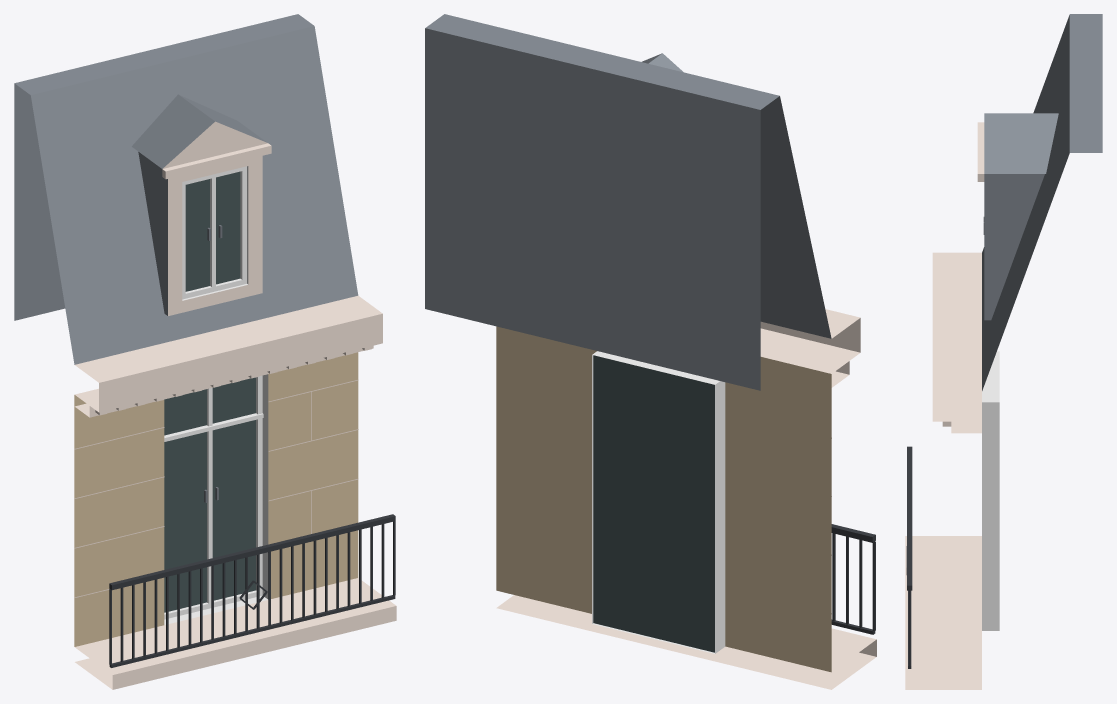
The model's file is top-w1_close.fbx.
3 views of the same model, side by side, from view 1: azimuth 30°, elevation 25°; view 2: azimuth 150°, elevation 25°; view 3: azimuth 270°, elevation 25° (orthographic). The views are drawn at different scales.
Visible parts, largest first — view 1: a2006/500/top-w1_close; view 2: a2006/500/top-w1_close; view 3: a2006/500/top-w1_close.
Part boxes in pixels (<box>): a2006/500/top-w1_close: <box>14,14,396,689</box>; a2006/500/top-w1_close: <box>425,14,876,689</box>; a2006/500/top-w1_close: <box>905,14,1102,689</box>.
Bounding box in the file's own units: 3.02 × 5.4 × 1.8.
